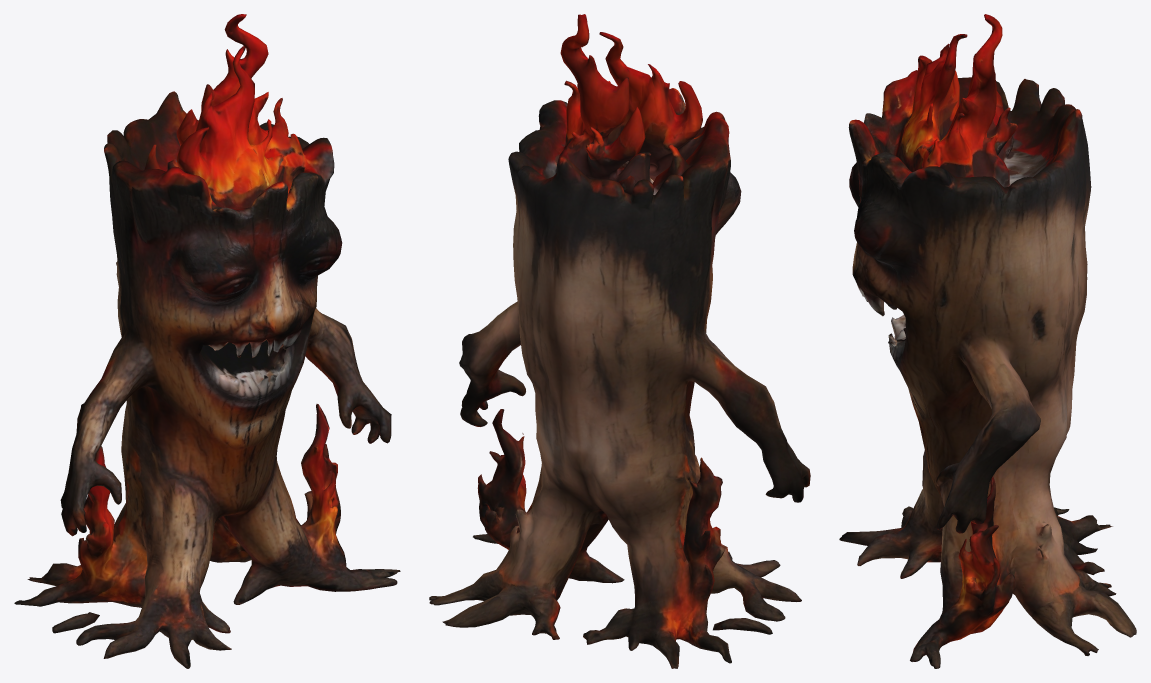
The model's file is burning_tree_stump.glb.
3 renders of one model, left to right at view 1: azimuth 30°, elevation 25°; view 2: azimuth 150°, elevation 25°; view 3: azimuth 270°, elevation 25°, orthographic. The views are drawn at different scales.
Parts seen in each view (by area): view 1: Object_4; view 2: Object_4; view 3: Object_4.
Boxes of the visible parts, x1,y1,x2,y2 form: Object_4: (14,14,400,668); Object_4: (429,14,810,668); Object_4: (839,14,1136,668).
Bounding box in the file's own units: 1.22 × 2.01 × 0.9157.
1 material, 1 textured.
